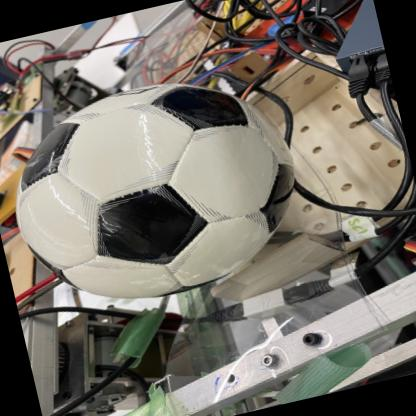ball: (0, 59, 312, 325)
